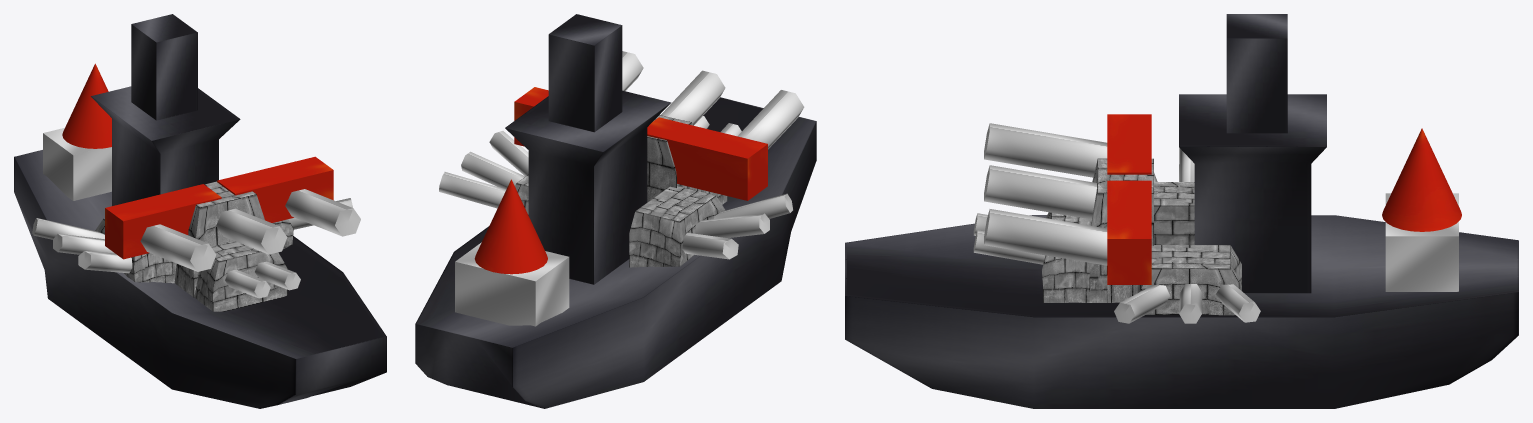
Rendered from SenkanType2.FBX.
3 renders of one model, left to right at view 1: azimuth 30°, elevation 25°; view 2: azimuth 150°, elevation 25°; view 3: azimuth 270°, elevation 25°, orthographic. The views are drawn at different scales.
Parts seen in each view (by area): view 1: Box001, Box004, Box005, Box010, Box009, Box008, Box002, Box003, Cone001, Cylinder010, Cylinder011, Cylinder003 (+6 smaller); view 2: Box001, Box004, Box005, Box008, Box010, Box006, Cone001, Cylinder011, Cylinder003, Box003, Cylinder007, Cylinder006 (+6 smaller); view 3: Box001, Box004, Box005, Box007, Box008, Box009, Cone001, Cylinder010, Cylinder011, Cylinder003, Box002, Box010 (+6 smaller).
Boxes of the visible parts, left/top/right/bottom form: Box001: left=14, top=150, right=386, bottom=408; Box004: left=91, top=86, right=240, bottom=205; Box005: left=131, top=14, right=197, bottom=120; Box010: left=105, top=184, right=221, bottom=259; Box009: left=217, top=156, right=333, bottom=222; Box008: left=43, top=128, right=111, bottom=200; Box002: left=186, top=241, right=287, bottom=311; Box003: left=174, top=181, right=264, bottom=297; Cone001: left=62, top=63, right=111, bottom=148; Cylinder010: left=285, top=189, right=360, bottom=236; Cylinder011: left=140, top=224, right=216, bottom=271; Cylinder003: left=216, top=208, right=287, bottom=254; Box001: left=415, top=97, right=816, bottom=408; Box004: left=505, top=90, right=671, bottom=284; Box005: left=548, top=14, right=622, bottom=132; Box008: left=455, top=242, right=569, bottom=326; Box010: left=647, top=117, right=767, bottom=200; Box006: left=629, top=186, right=725, bottom=267; Cone001: left=474, top=179, right=547, bottom=274; Cylinder011: left=737, top=90, right=804, bottom=149; Cylinder003: left=661, top=70, right=725, bottom=125; Box003: left=647, top=115, right=706, bottom=202; Cylinder007: left=694, top=213, right=769, bottom=237; Cylinder006: left=439, top=172, right=506, bottom=208; Box001: left=845, top=215, right=1518, bottom=408; Box004: left=1179, top=94, right=1326, bottom=293; Box005: left=1226, top=14, right=1287, bottom=133; Box007: left=1137, top=244, right=1241, bottom=315; Box008: left=1385, top=193, right=1458, bottom=291; Box009: left=1107, top=180, right=1151, bottom=284; Cone001: left=1382, top=128, right=1461, bottom=231; Cylinder010: left=984, top=209, right=1107, bottom=265; Cylinder011: left=984, top=123, right=1107, bottom=177; Cylinder003: left=984, top=165, right=1096, bottom=219; Box002: left=1042, top=212, right=1107, bottom=302; Box010: left=1107, top=114, right=1151, bottom=174.
Bounding box in the file's own units: 160 × 282 × 153.
5 materials, 5 textured.
